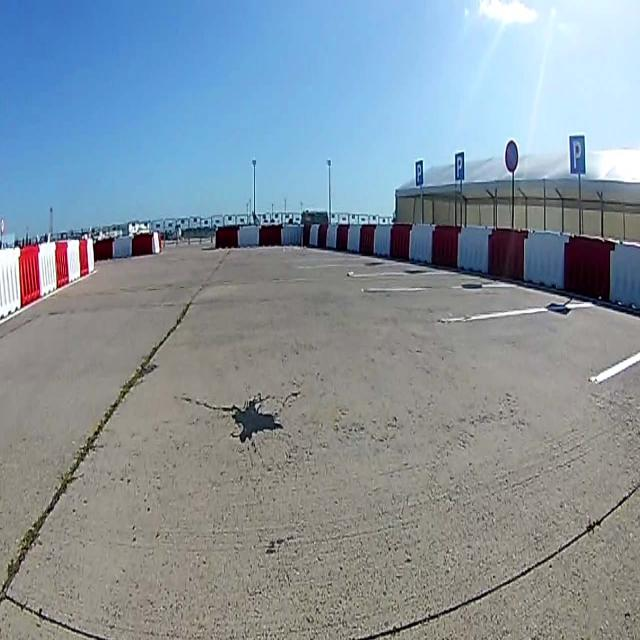park: (569, 134, 587, 175), (454, 151, 464, 181), (414, 160, 424, 187)
parkyasak: (504, 140, 518, 172)
